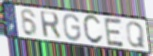6: (19, 8, 39, 37)
C: (82, 14, 105, 46)
E: (103, 17, 126, 49)
G: (62, 13, 82, 42)
Q: (125, 21, 146, 49)
R: (39, 11, 63, 41)
